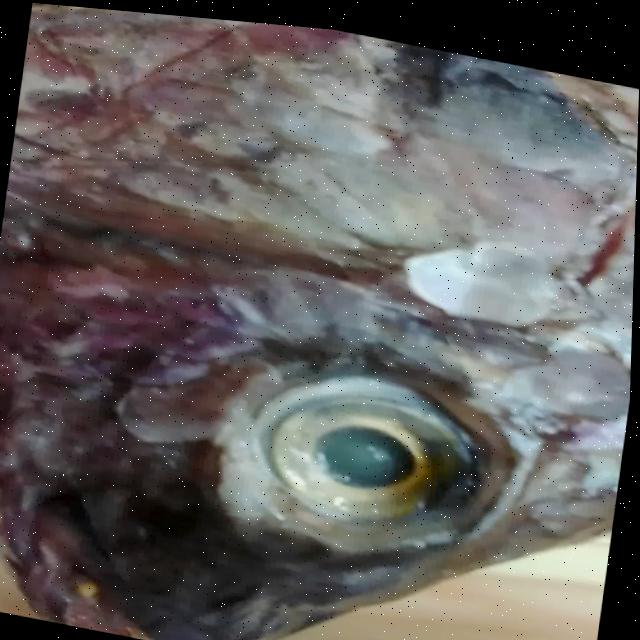Non-Fresh: (171, 302, 561, 590)
